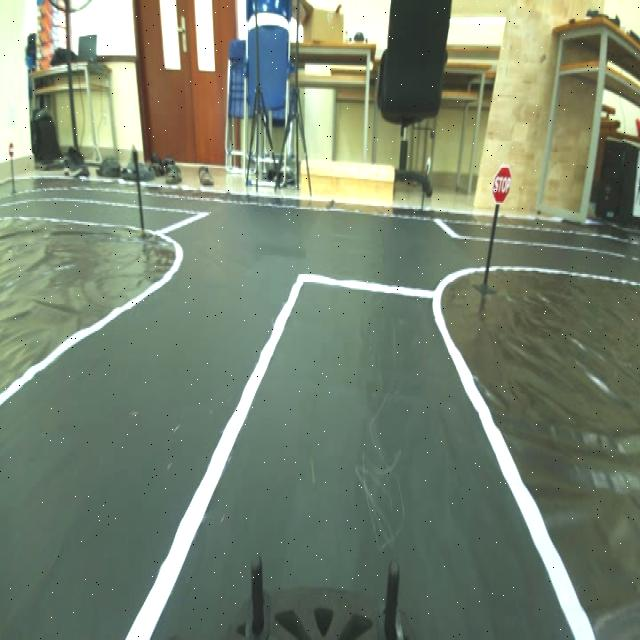stop: (488, 160, 515, 209)
